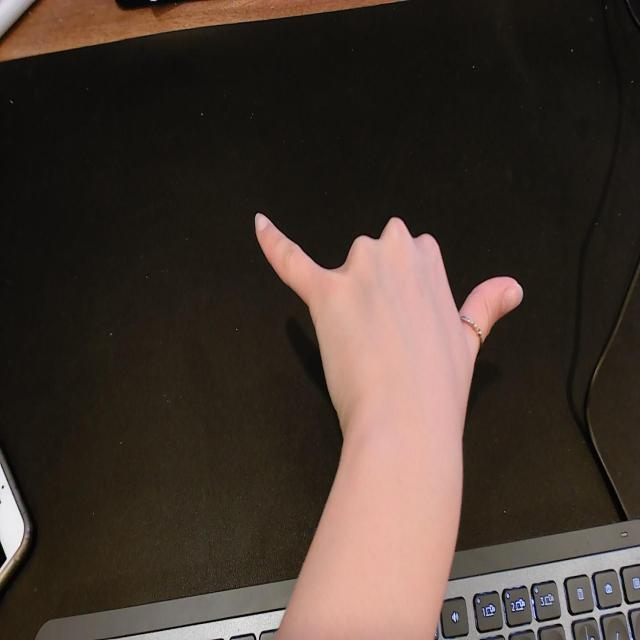Y: (252, 209, 525, 500)
